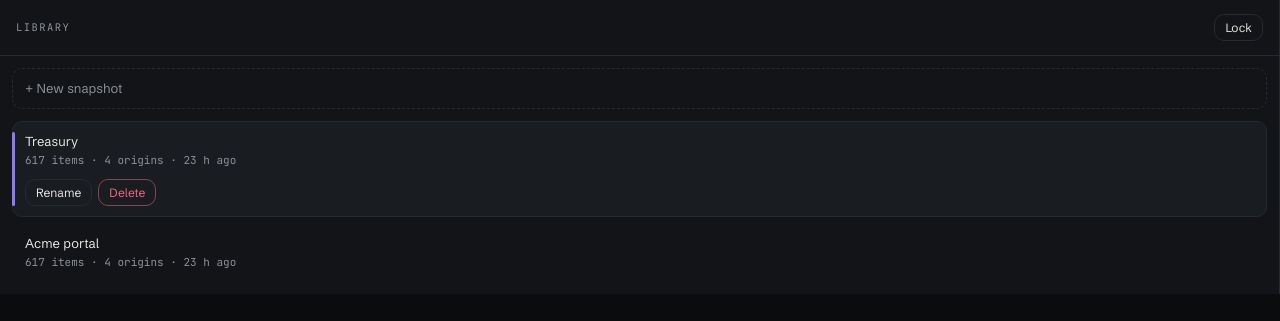
Test case: a failed rename keeps the editor open with the error
The image size is (1280, 321).
Click the button "Rename" at coordinates (59, 193), box [25,179,92,206]
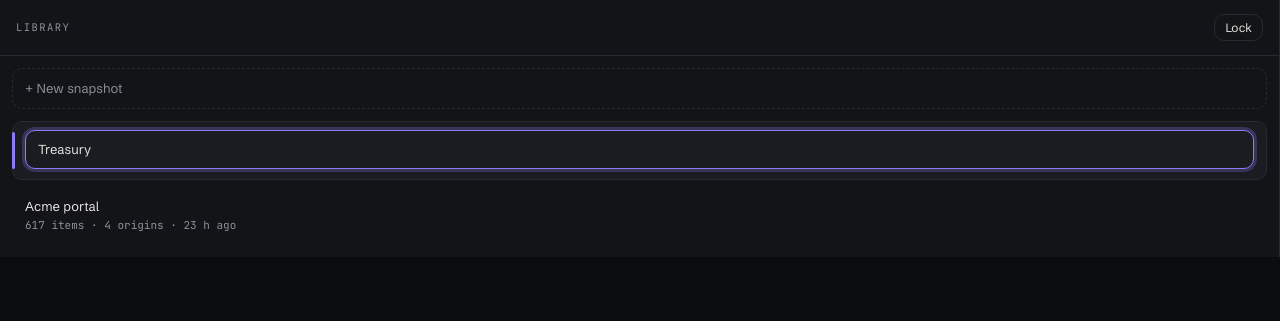
Type "x" into the field named "Snapshot name" at coordinates (640, 150), box [25,130,1254,169]
Then press Enter
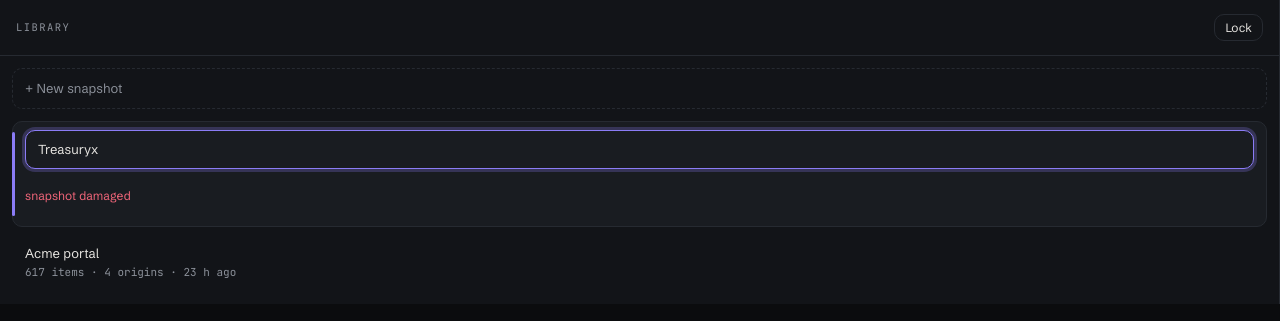
Check: the field named "Snapshot name" is shown, box [25,130,1254,169]
Check: the message reads "snapshot damaged", box [25,188,131,203]
